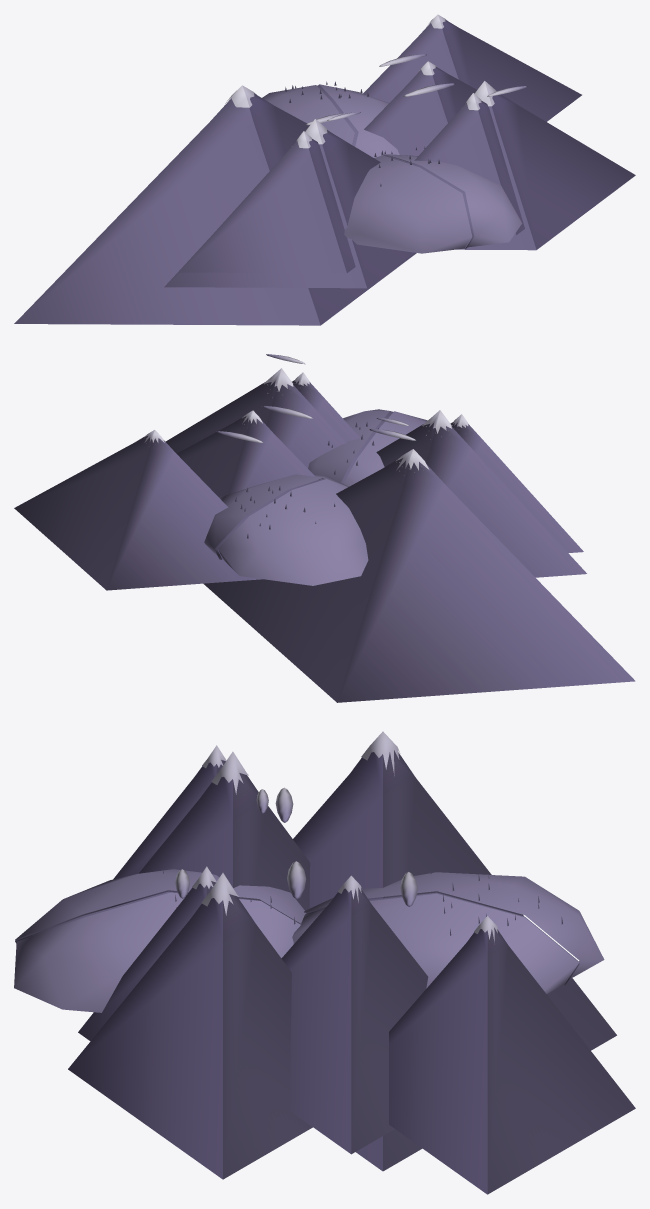
The model's file is ground.fbx.
The picture shows the model from 3 angles, top to bottom: view 1: azimuth 30°, elevation 25°; view 2: azimuth 150°, elevation 25°; view 3: azimuth 270°, elevation 25°; orthographic projection. The views are drawn at different scales.
Parts seen in each view (by area): view 1: Cube_002, Cube_000, Cube_001, Cube_004, Cube_008, Cube_003; view 2: Cube_002, Cube_008, Cube_001, Cube_000, Cube_004, Cube_003; view 3: Cube_004, Cube_008, Cube_001, Cube_003, Cube_002, Cube_000.
Part boxes in pixels (x1=…): Cube_002: x1=14, y1=85, x2=416, y2=325; Cube_000: x1=164, y1=119, x2=413, y2=288; Cube_001: x1=262, y1=81, x2=522, y2=253; Cube_004: x1=412, y1=81, x2=635, y2=250; Cube_008: x1=353, y1=14, x2=581, y2=138; Cube_003: x1=352, y1=61, x2=476, y2=155; Cube_002: x1=203, y1=449, x2=635, y2=702; Cube_008: x1=14, y1=430, x2=262, y2=590; Cube_001: x1=204, y1=409, x2=427, y2=585; Cube_000: x1=376, y1=410, x2=586, y2=577; Cube_004: x1=165, y1=368, x2=360, y2=468; Cube_003: x1=177, y1=410, x2=318, y2=515; Cube_004: x1=68, y1=866, x2=312, y2=1179; Cube_008: x1=389, y1=916, x2=635, y2=1194; Cube_001: x1=14, y1=869, x2=604, y2=1012; Cube_003: x1=281, y1=875, x2=428, y2=1154; Cube_002: x1=293, y1=731, x2=616, y2=1171; Cube_000: x1=104, y1=745, x2=310, y2=919.
Size of the model in its own units: 2700 by 870 by 1611.
Materials: 2 (2 with a texture image).
